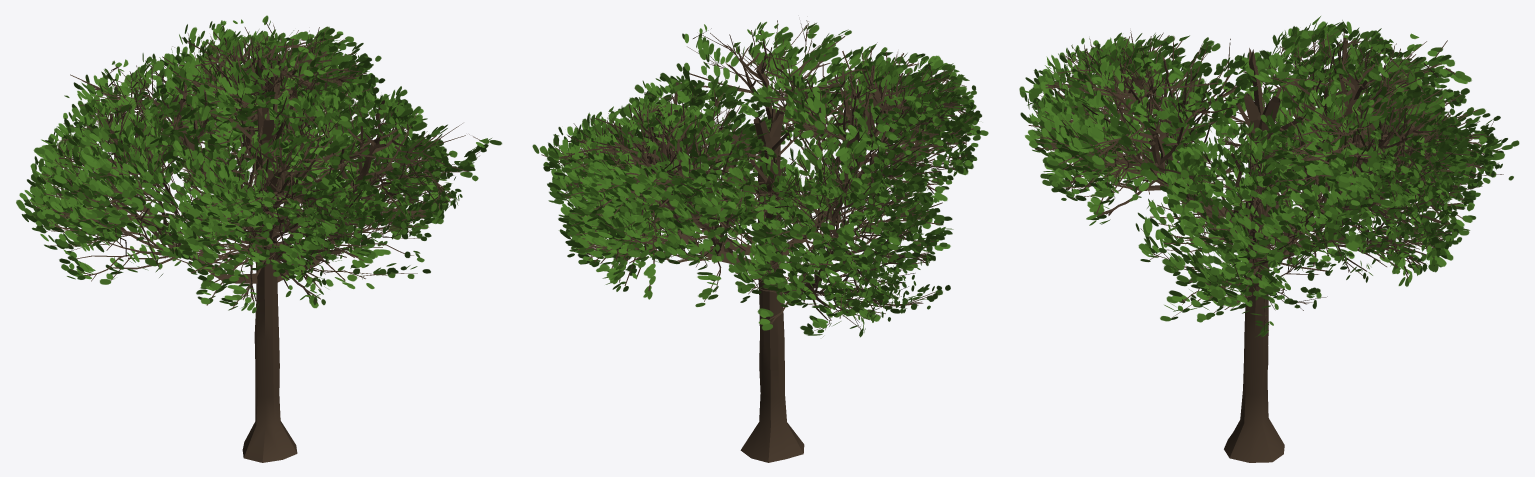
3 views of the same model, side by side, from view 1: azimuth 30°, elevation 25°; view 2: azimuth 150°, elevation 25°; view 3: azimuth 270°, elevation 25° (orthographic). The views are drawn at different scales.
Parts seen in each view (by area): view 1: oak 01.001_trunk_Mat.001_0.062; view 2: oak 01.001_trunk_Mat.001_0.062; view 3: oak 01.001_trunk_Mat.001_0.062.
Boxes of the visible parts, x1,y1,x2,y2 form: oak 01.001_trunk_Mat.001_0.062: (16, 15, 502, 462); oak 01.001_trunk_Mat.001_0.062: (532, 20, 988, 462); oak 01.001_trunk_Mat.001_0.062: (1019, 16, 1519, 462).
Size of the model in its own units: 5.36 by 4.82 by 5.84.
2 materials, 1 textured.
